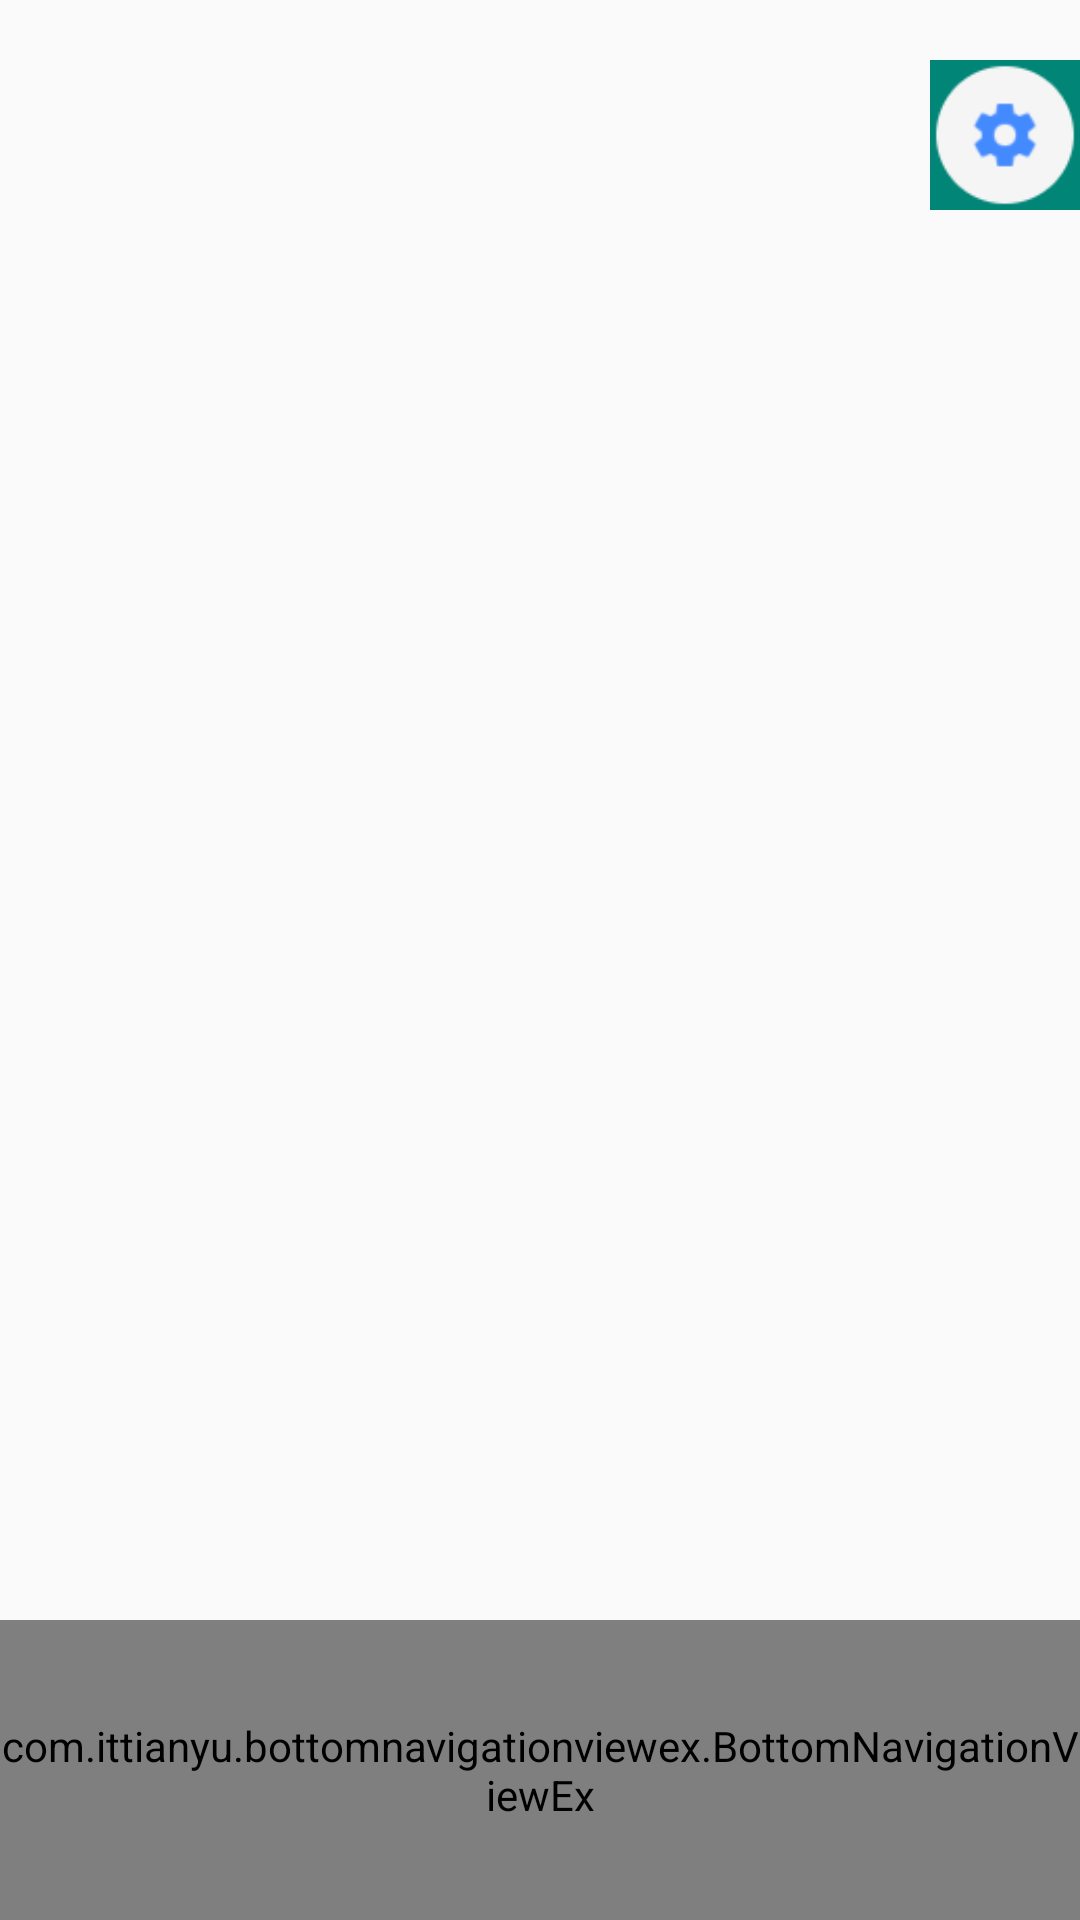

Screen size 1080px x 1920px. Icon name, then its box in pixels as bbox=(x1, y1, x2, y2):
shortcut settings: bbox=(930, 60, 1080, 210)
